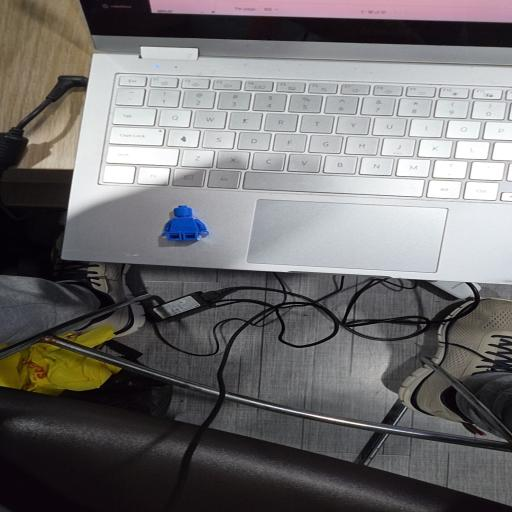Blue: (162, 205, 208, 241)
